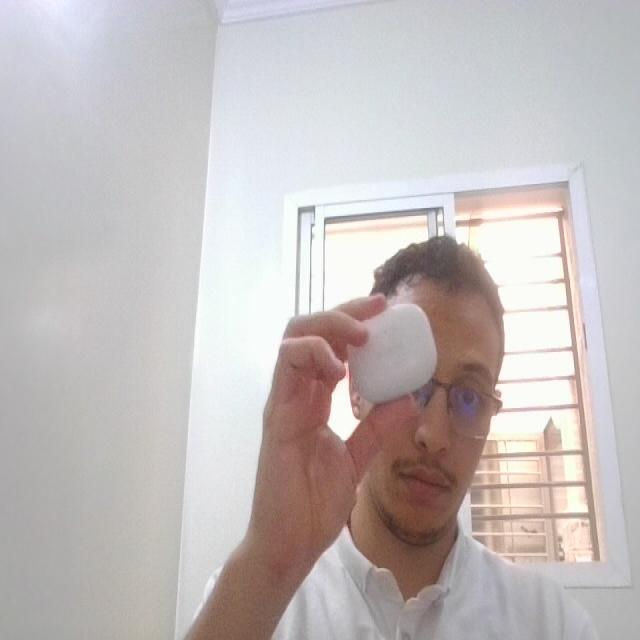airpods: (341, 299, 441, 408)
